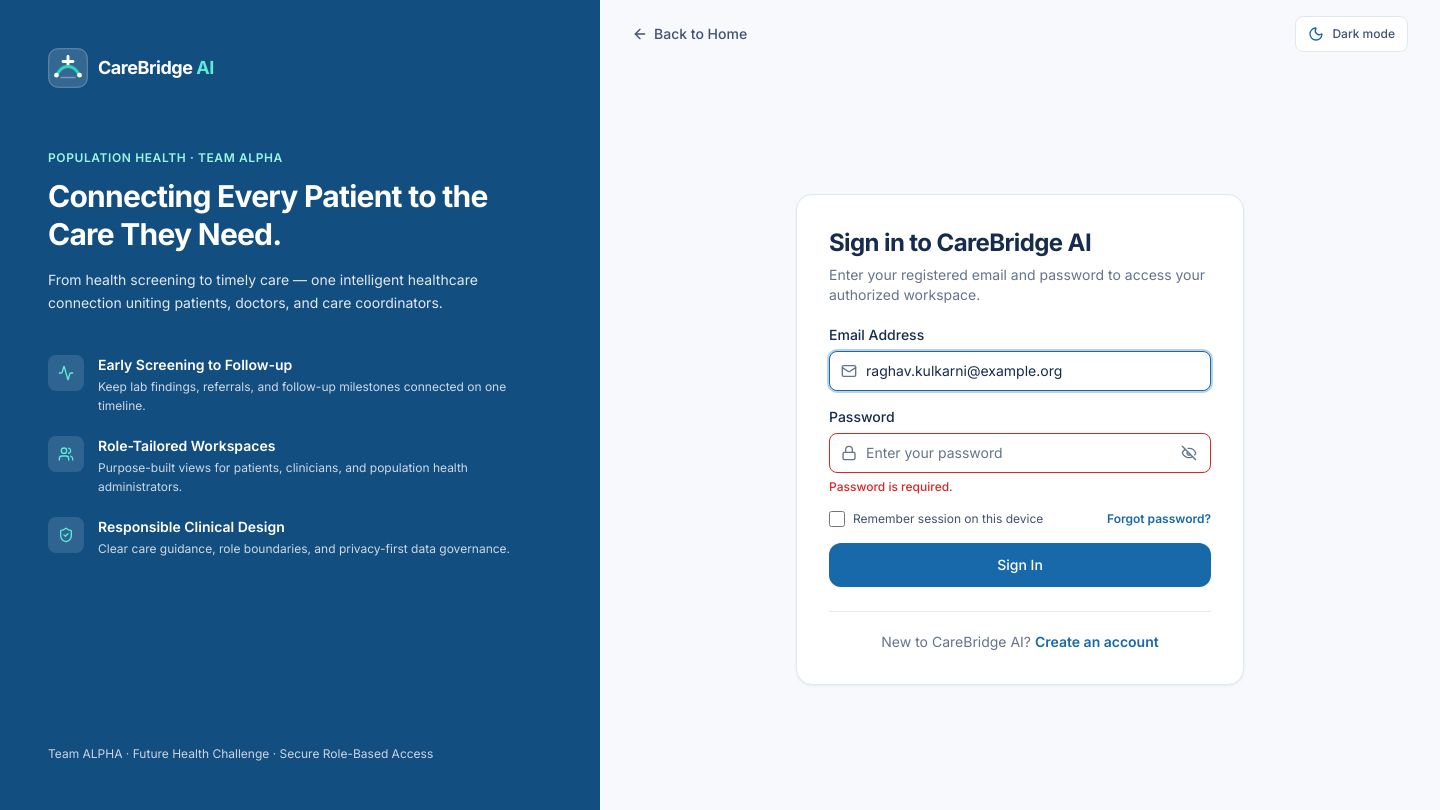
Test: CareBridge AI — Frontend Authentication, RBAC & UI Suite › submits login, handles backend error, supports show/hide password, redirects by role, and stores zero tokens in web storage
Earlier steps of the test are not shown.
Type "WrongPass!1" into the field labelled "Password".
click(1020, 452); type("WrongPass!1")  # box top-left (829, 432), bottom-right (1211, 472)
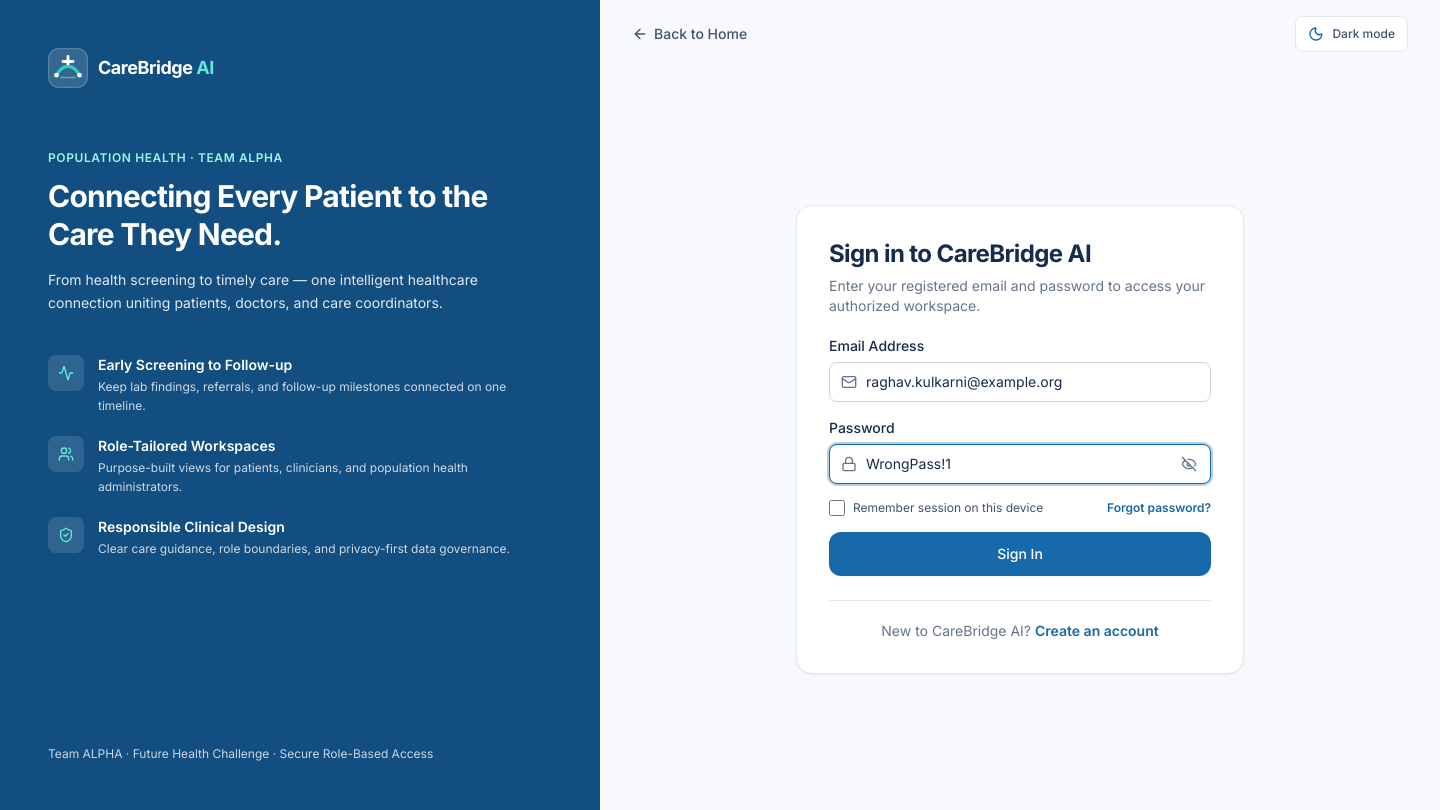
Click the checkbox labelled "Remember session on this device".
click(837, 508)  # box top-left (829, 500), bottom-right (845, 516)
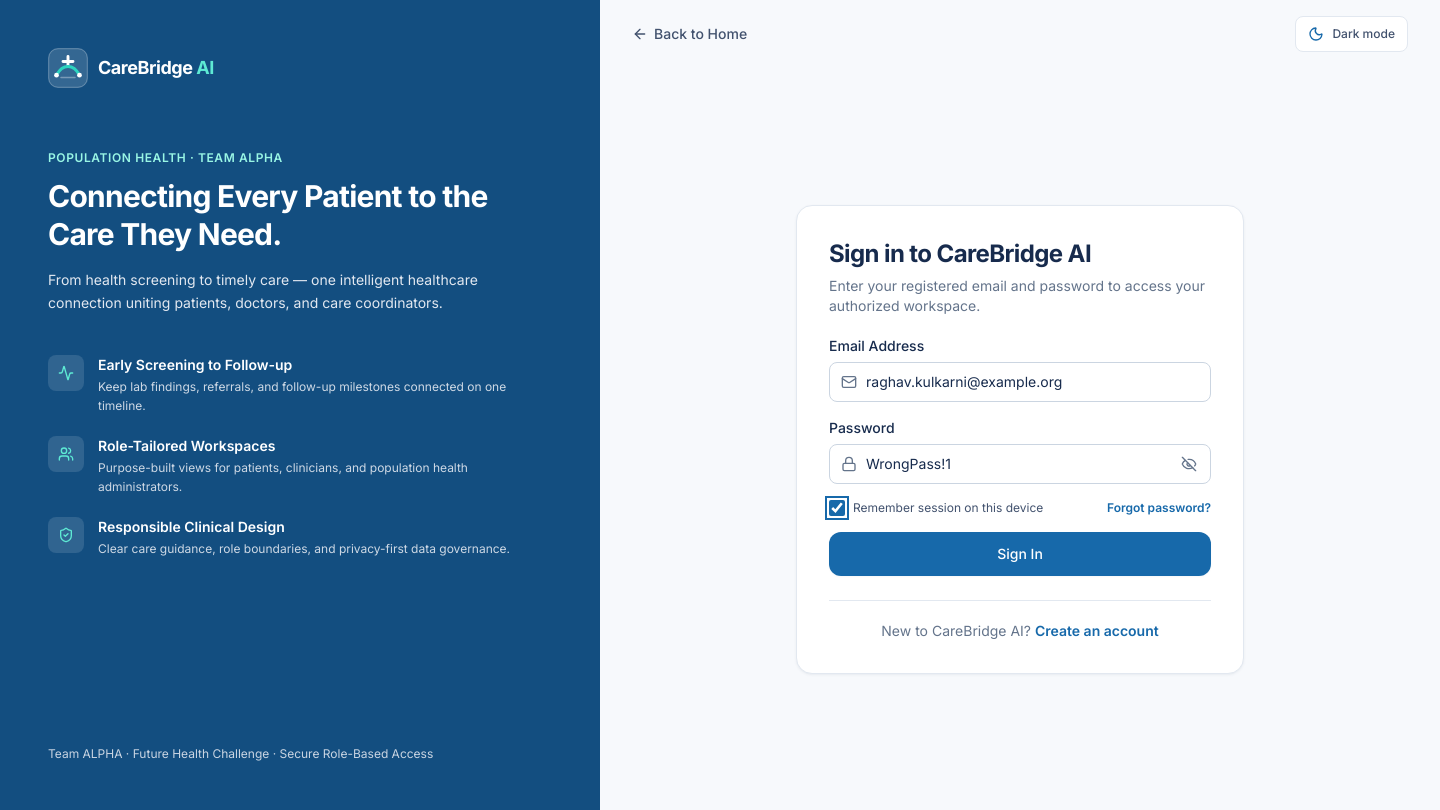
Click the button "Sign In".
click(1020, 554)  # box top-left (829, 532), bottom-right (1211, 576)
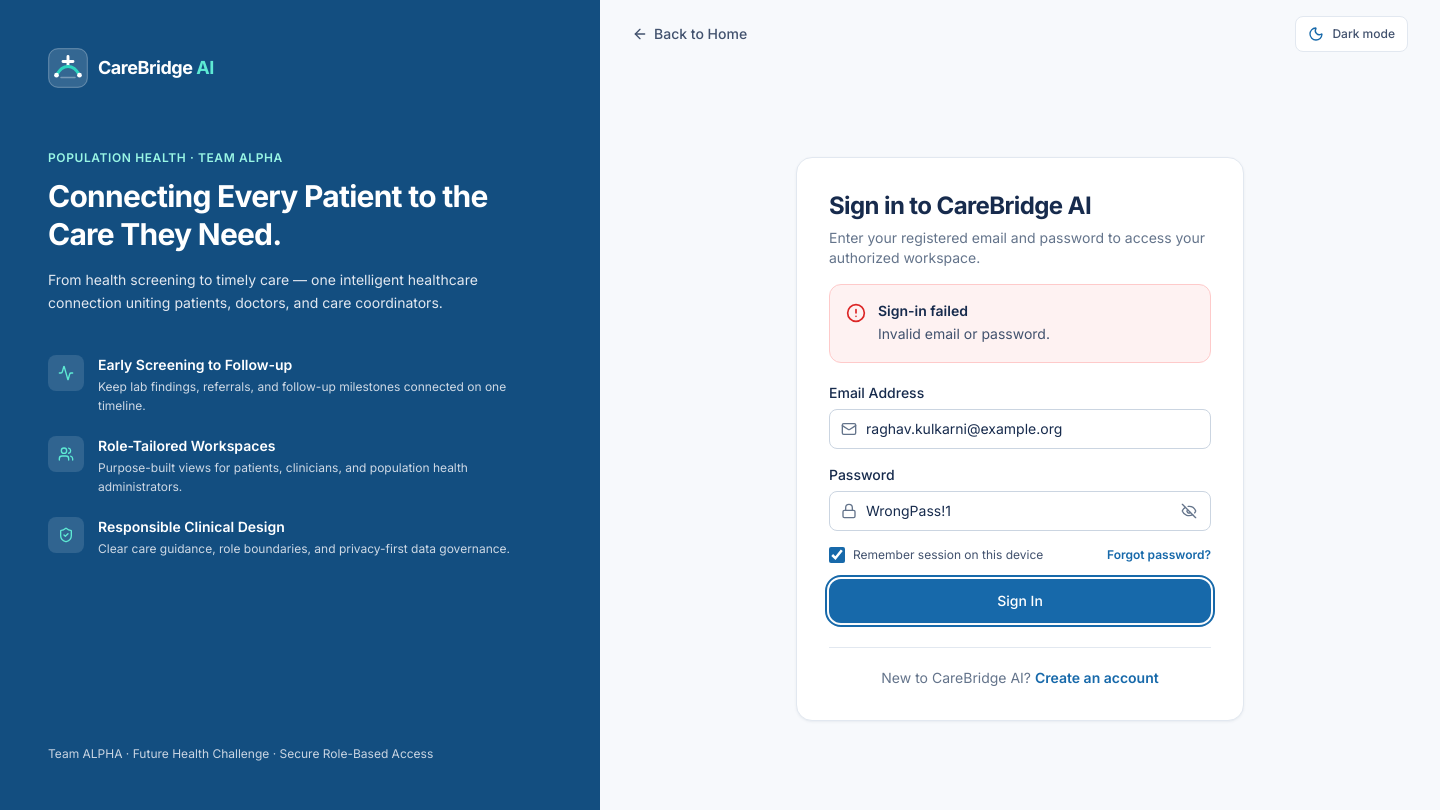
Now the text "Invalid email or password." is shown, box top-left (878, 323), bottom-right (1050, 346)
Clear the field labelled "Password" at (1020, 511), box top-left (829, 491), bottom-right (1211, 531)
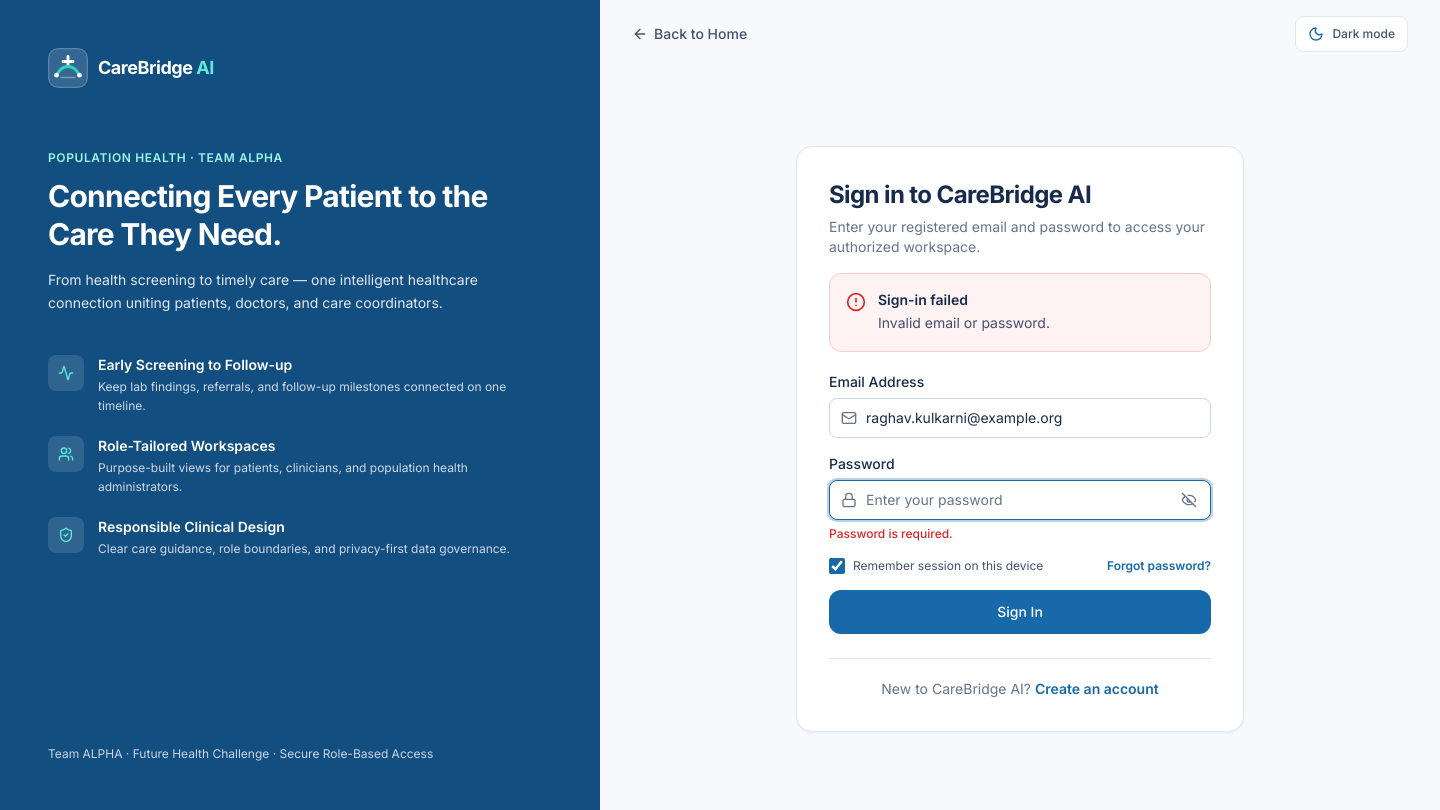
Type "CareBridge!2026" into the field labelled "Password".
click(1020, 500); type("CareBridge!2026")  # box top-left (829, 480), bottom-right (1211, 520)
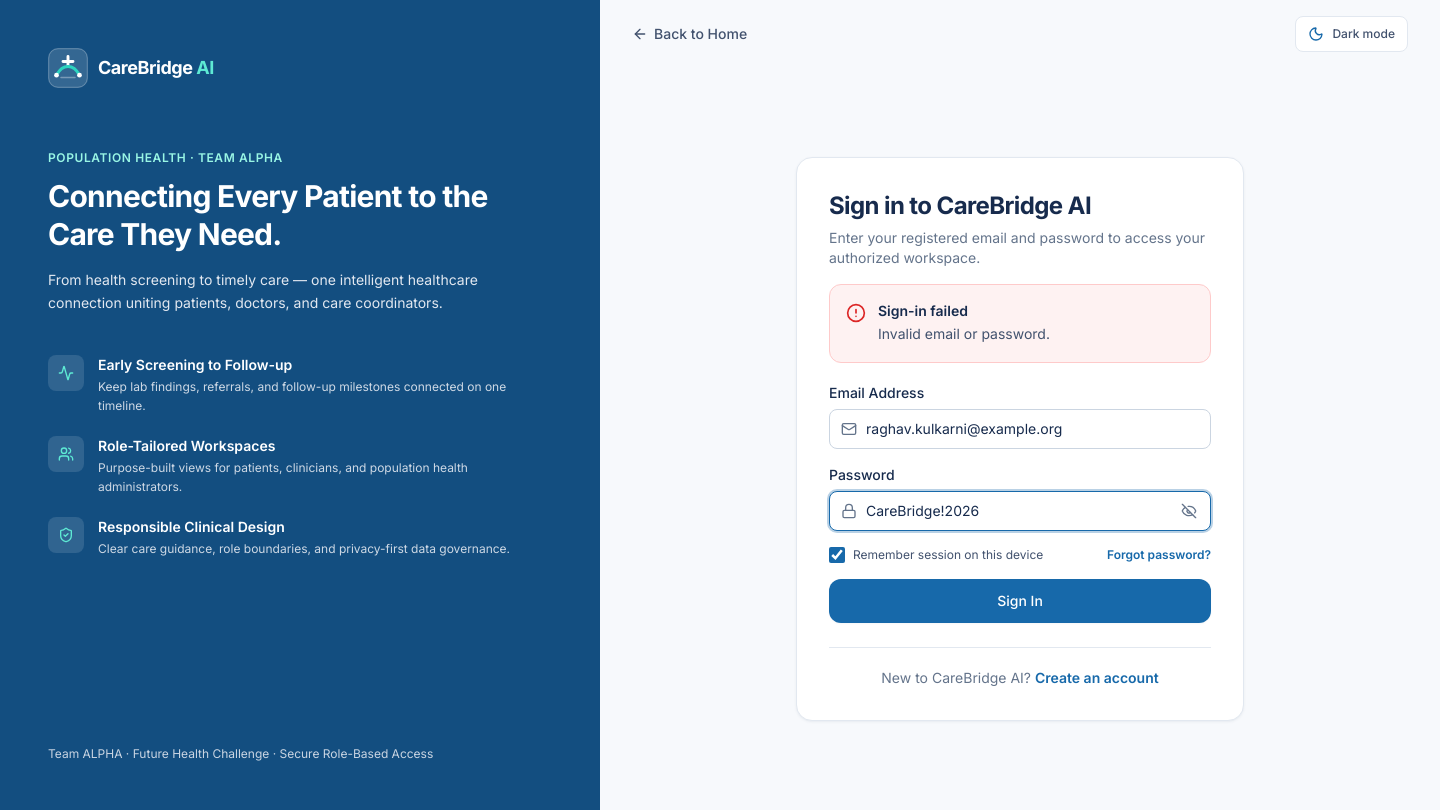
Click the button "Sign In".
click(1020, 601)  # box top-left (829, 579), bottom-right (1211, 623)
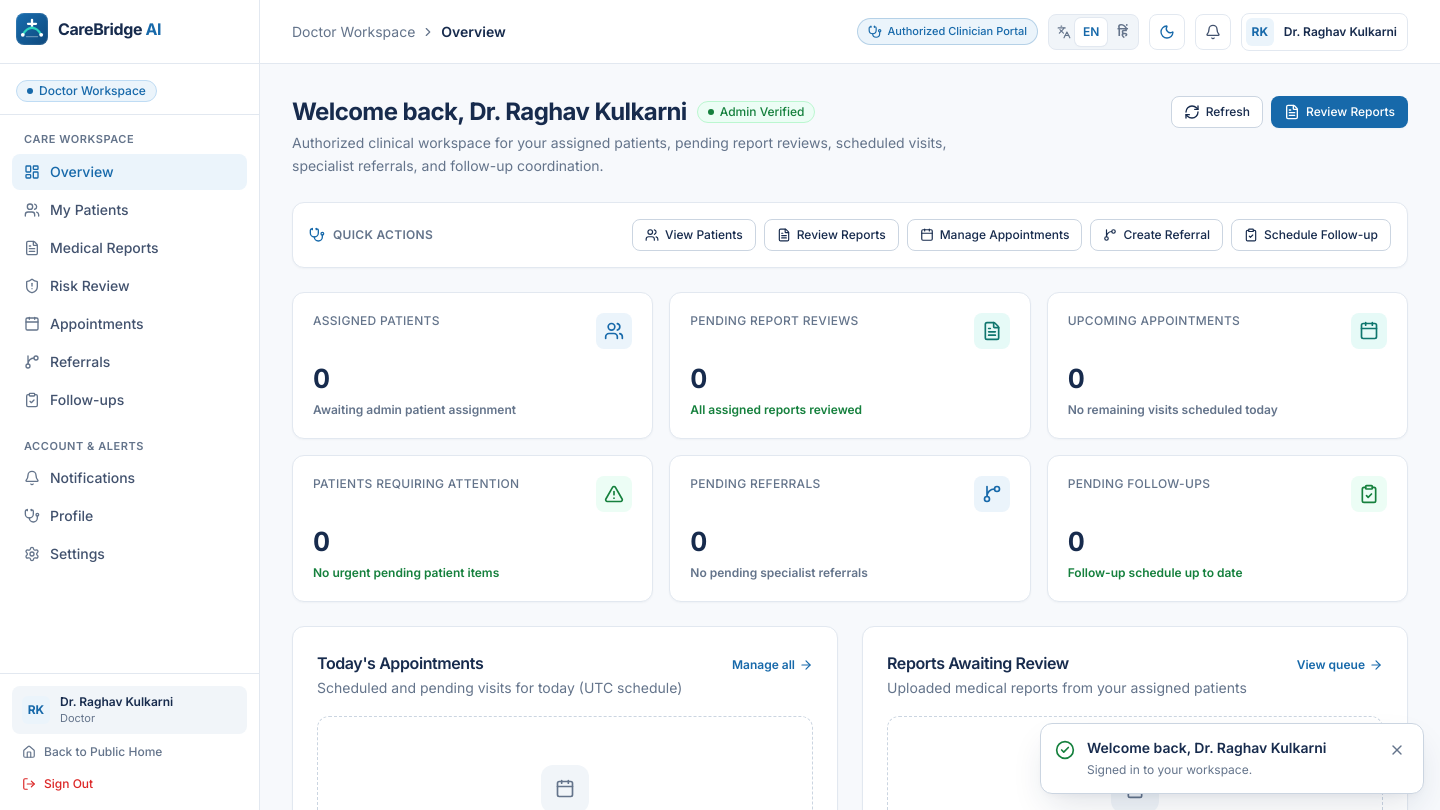
Now the heading "Welcome back, Dr. Raghav Kulkarni" is shown, box top-left (292, 96), bottom-right (687, 128)
